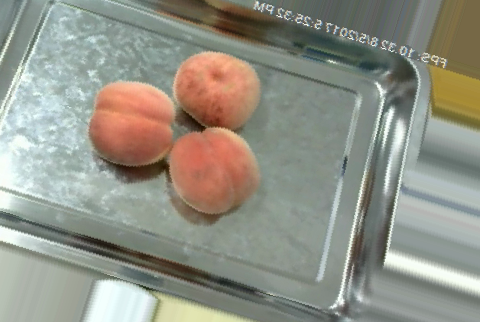Peach: (89, 79, 175, 169), (170, 127, 257, 215), (172, 49, 260, 129)
